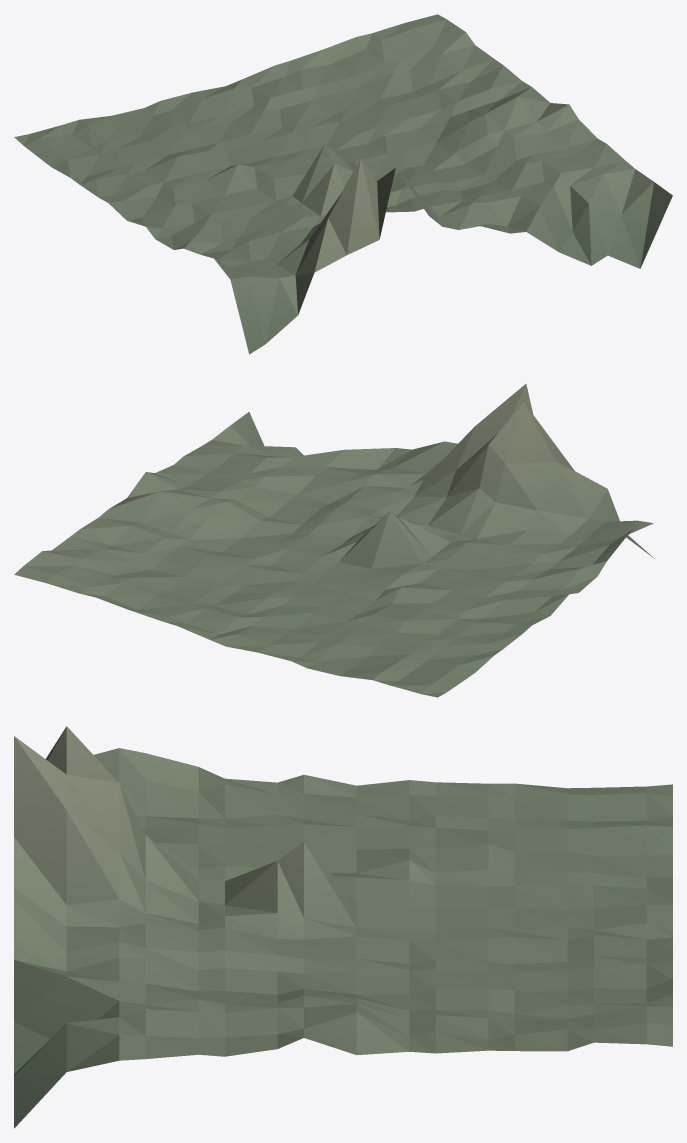
Rendered from tile_0_1.glb.
3 views of the same model, one above another, from view 1: azimuth 30°, elevation 25°; view 2: azimuth 150°, elevation 25°; view 3: azimuth 270°, elevation 25° (orthographic). The views are drawn at different scales.
Visible parts, largest first — view 1: geometry_0; view 2: geometry_0; view 3: geometry_0.
Boxes of the visible parts, x1,y1,x2,y2 form: geometry_0: (14, 14, 672, 354); geometry_0: (14, 384, 654, 697); geometry_0: (14, 726, 672, 1128).
Size of the model in its own units: 127 by 46.37 by 123.
